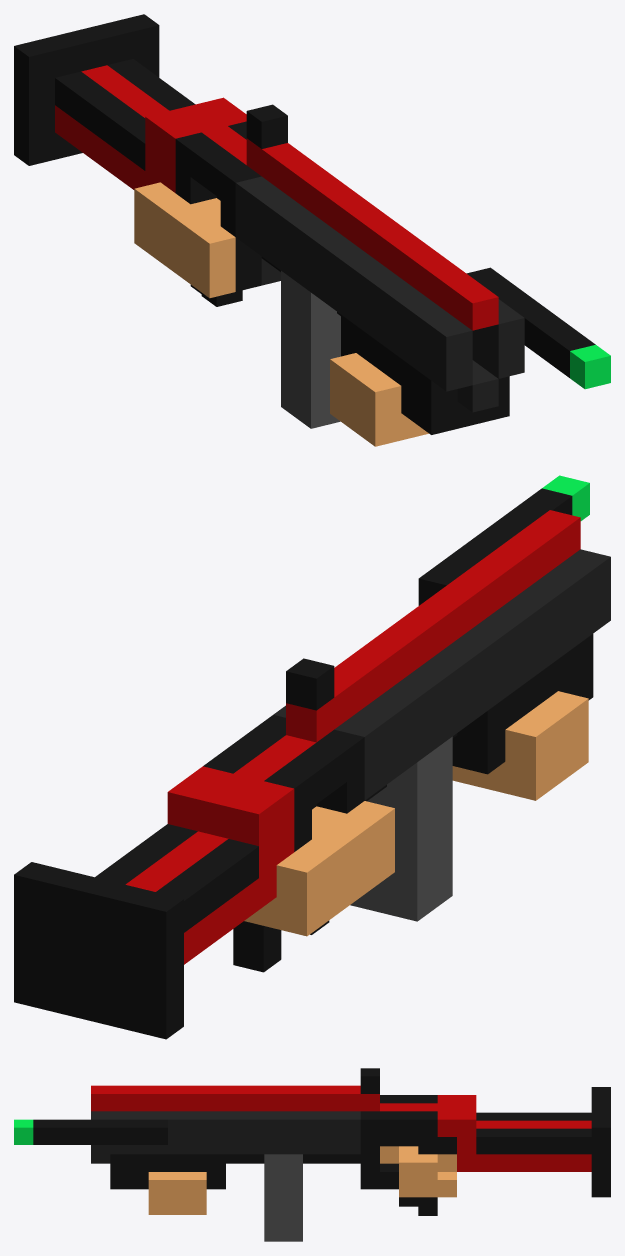
Rendered from MachineGun_Hands.obj.
3 views of the same model, one above another, from view 1: azimuth 30°, elevation 25°; view 2: azimuth 150°, elevation 25°; view 3: azimuth 270°, elevation 25° (orthographic). The views are drawn at different scales.
Size of the model in its own units: 0.5 by 0.9 by 3.1.
Materials: 1 (1 with a texture image).
